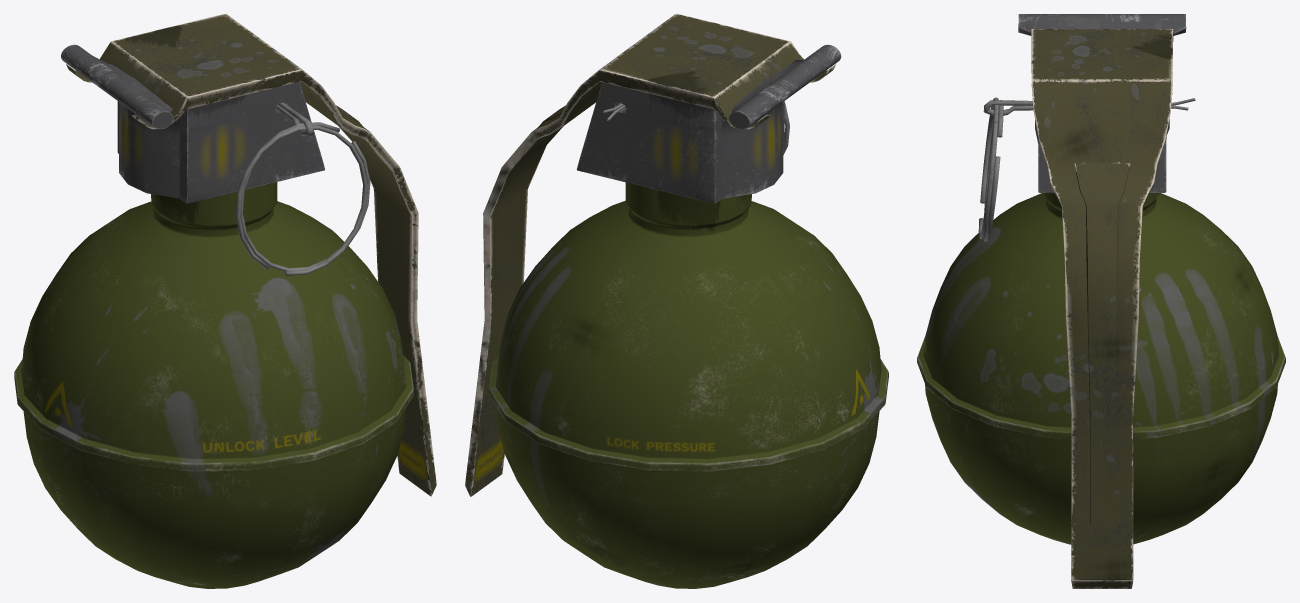
The model's file is frag_grenade.glb.
The picture shows the model from 3 angles, left to right: view 1: azimuth 30°, elevation 25°; view 2: azimuth 150°, elevation 25°; view 3: azimuth 270°, elevation 25°; orthographic projection. The views are drawn at different scales.
Visible parts, largest first — view 1: frag_grenade_0, frag_grenade_2, frag_grenade_1, frag_grenade_4; view 2: frag_grenade_0, frag_grenade_2, frag_grenade_1; view 3: frag_grenade_0, frag_grenade_2, frag_grenade_1, frag_grenade_4, frag_grenade_3.
Boxes of the visible parts, x1,y1,x2,y2 form: frag_grenade_0: (14, 182, 413, 588); frag_grenade_2: (66, 14, 436, 496); frag_grenade_1: (61, 44, 324, 203); frag_grenade_4: (235, 122, 370, 275); frag_grenade_0: (488, 182, 888, 588); frag_grenade_2: (465, 14, 835, 496); frag_grenade_1: (576, 44, 841, 203); frag_grenade_0: (917, 193, 1285, 544); frag_grenade_2: (1031, 29, 1173, 588); frag_grenade_1: (1018, 14, 1186, 192); frag_grenade_4: (978, 97, 1003, 241); frag_grenade_3: (983, 98, 1195, 115).
Size of the model in its own units: 0.0695 by 0.089 by 0.0636.
Materials: 1 (1 with a texture image).
